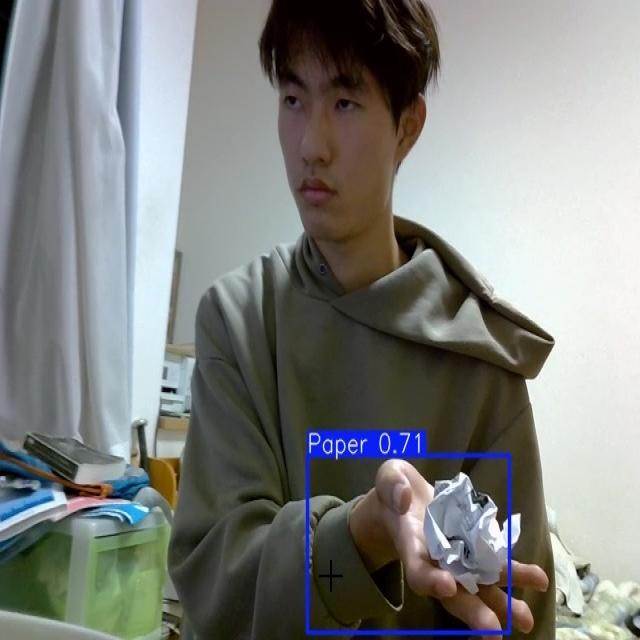paper: (422, 470, 521, 594)
